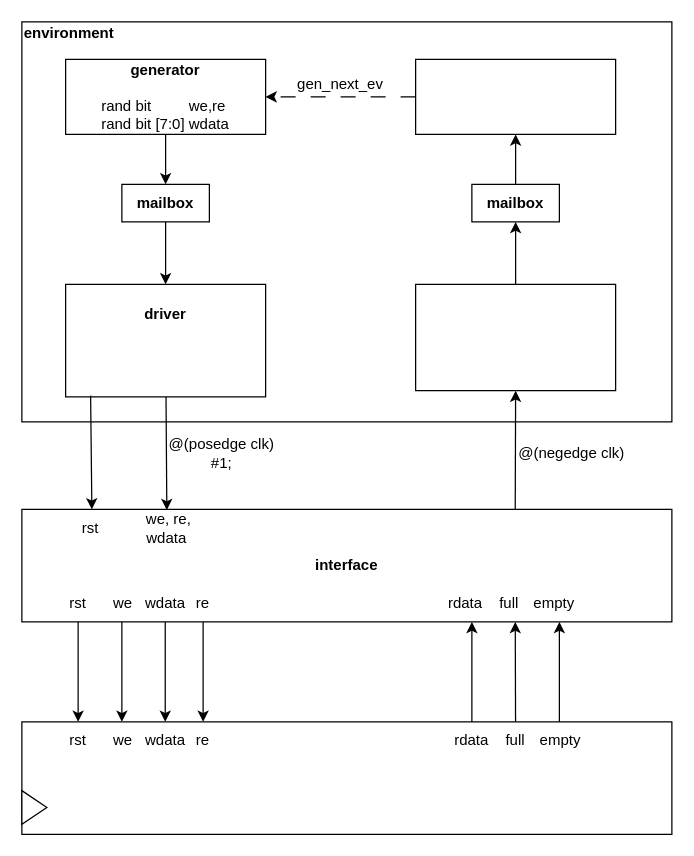
Image size: 694x856. Some labels were removed from this diagram. Here are the shapes that lost their labels. From the top down, the box of each, then its label:
(414, 58, 616, 134): scoreboard
(414, 283, 616, 391): mointor
(21, 721, 672, 834): FIFO
